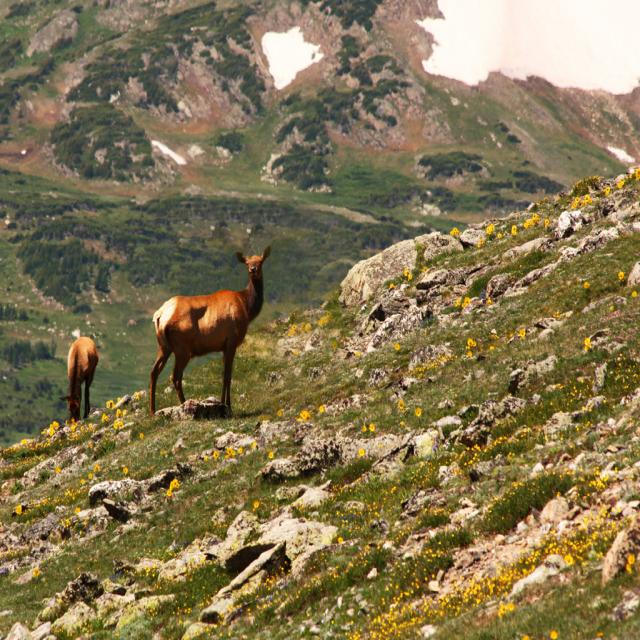Deer: (150, 245, 270, 414), (59, 336, 99, 423)
